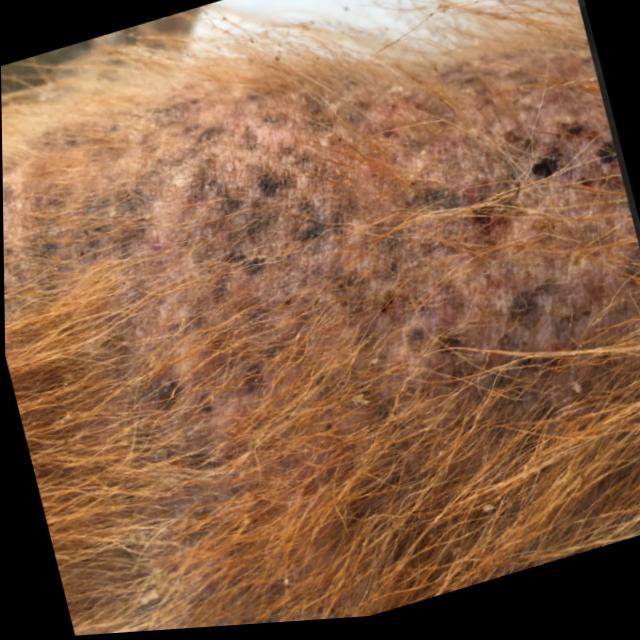demodicosis: (361, 66, 640, 363), (94, 90, 339, 381)
